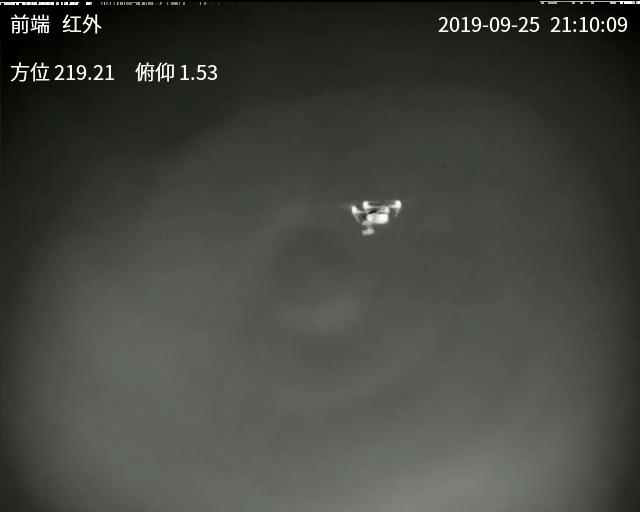uav: (345, 196, 402, 238)
